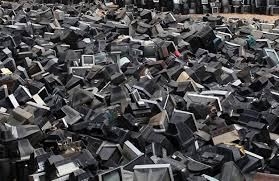metal: (182, 89, 230, 123), (162, 106, 200, 142), (240, 118, 273, 152), (92, 140, 129, 167), (130, 159, 175, 181), (42, 151, 80, 177), (125, 97, 153, 126), (8, 81, 38, 105), (132, 19, 160, 43), (74, 51, 101, 72), (23, 58, 50, 79)
